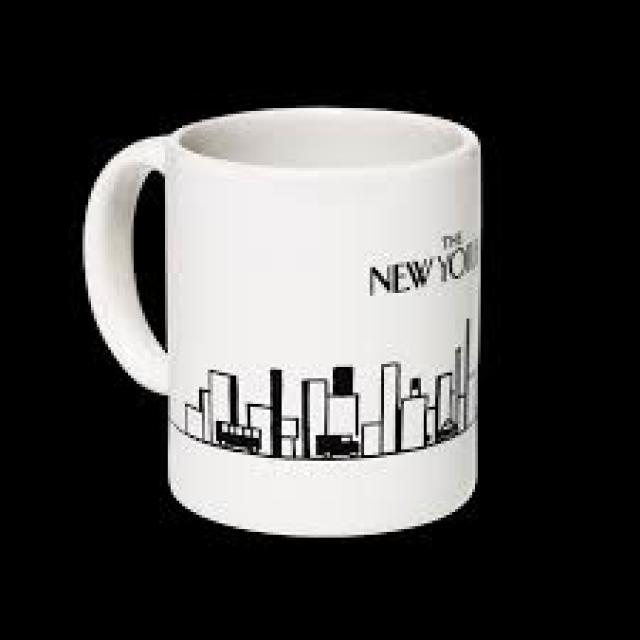taza: (84, 105, 481, 537)
